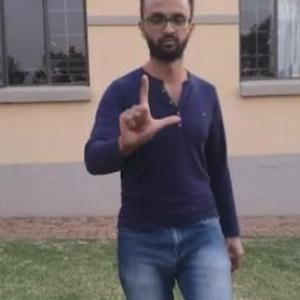land_hand: (114, 68, 186, 152)
